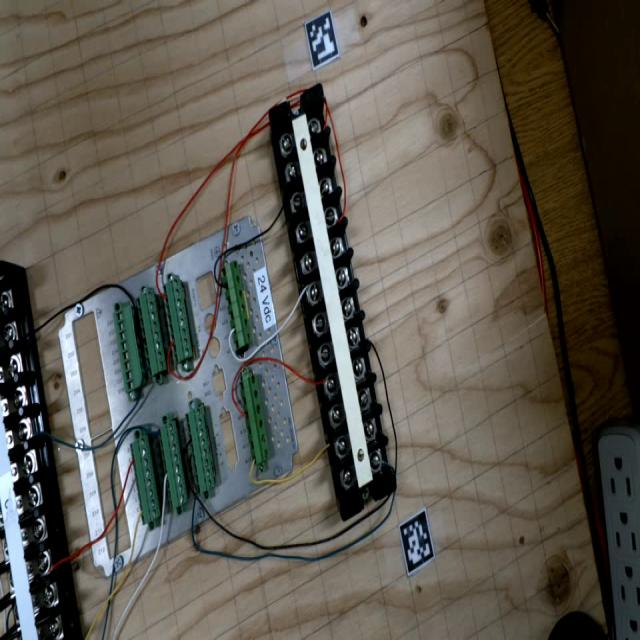Flathead_Block: (266, 82, 401, 521)
Phillips_Block: (0, 261, 61, 639)
Terminal_1: (238, 373, 271, 467), (220, 260, 253, 351)
Terminal_2: (135, 286, 168, 378), (129, 435, 162, 525), (157, 421, 189, 510), (184, 406, 216, 493), (161, 277, 193, 364)
